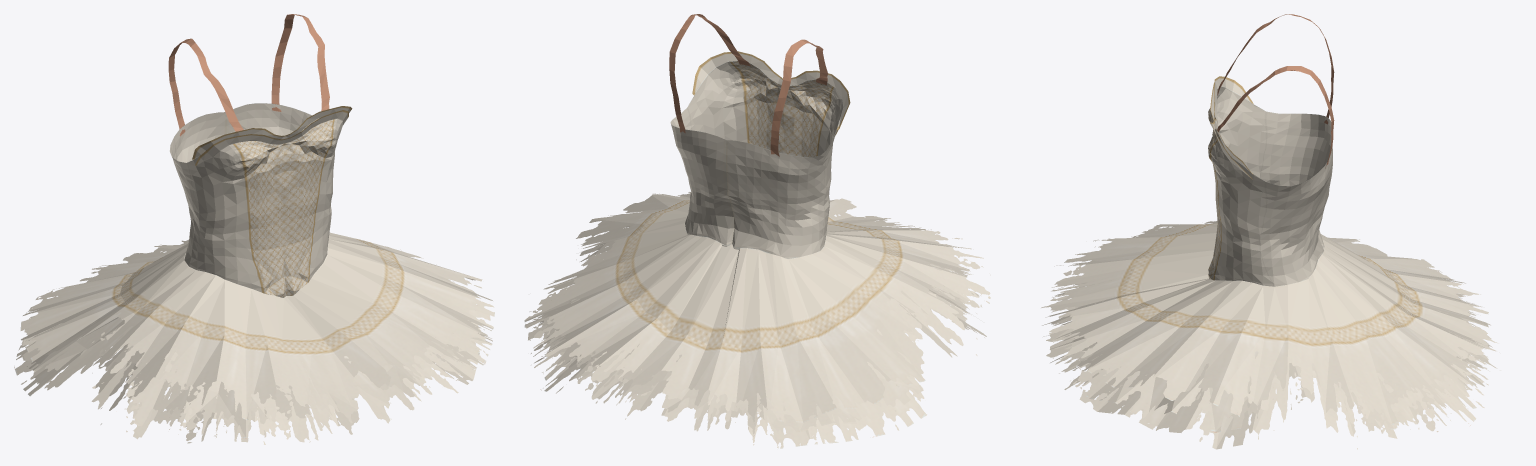
Rendered from mhw_mindfront_ballet_dress_the_swan.glb.
The picture shows the model from 3 angles, left to right: view 1: azimuth 30°, elevation 25°; view 2: azimuth 150°, elevation 25°; view 3: azimuth 270°, elevation 25°; orthographic projection.
Parts seen in each view (by area): view 1: mhw_mindfront_ballet_dress_the_swan; view 2: mhw_mindfront_ballet_dress_the_swan; view 3: mhw_mindfront_ballet_dress_the_swan.
Part boxes in pixels (left/top/right/bottom): mhw_mindfront_ballet_dress_the_swan: left=14, top=14, right=494, bottom=444; mhw_mindfront_ballet_dress_the_swan: left=524, top=14, right=990, bottom=448; mhw_mindfront_ballet_dress_the_swan: left=1041, top=14, right=1500, bottom=449.
Bounding box in the file's own units: 0.9281 × 0.74 × 1.
Materials: 1 (1 with a texture image).
